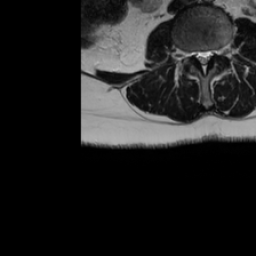CCS_normal: (199, 43, 206, 79)
LFS_stenosis: (214, 43, 221, 62)
LLS_stenosis: (206, 43, 214, 65)
RFS_stenosis: (186, 43, 192, 65)
RLS_stenosis: (192, 44, 199, 64)
